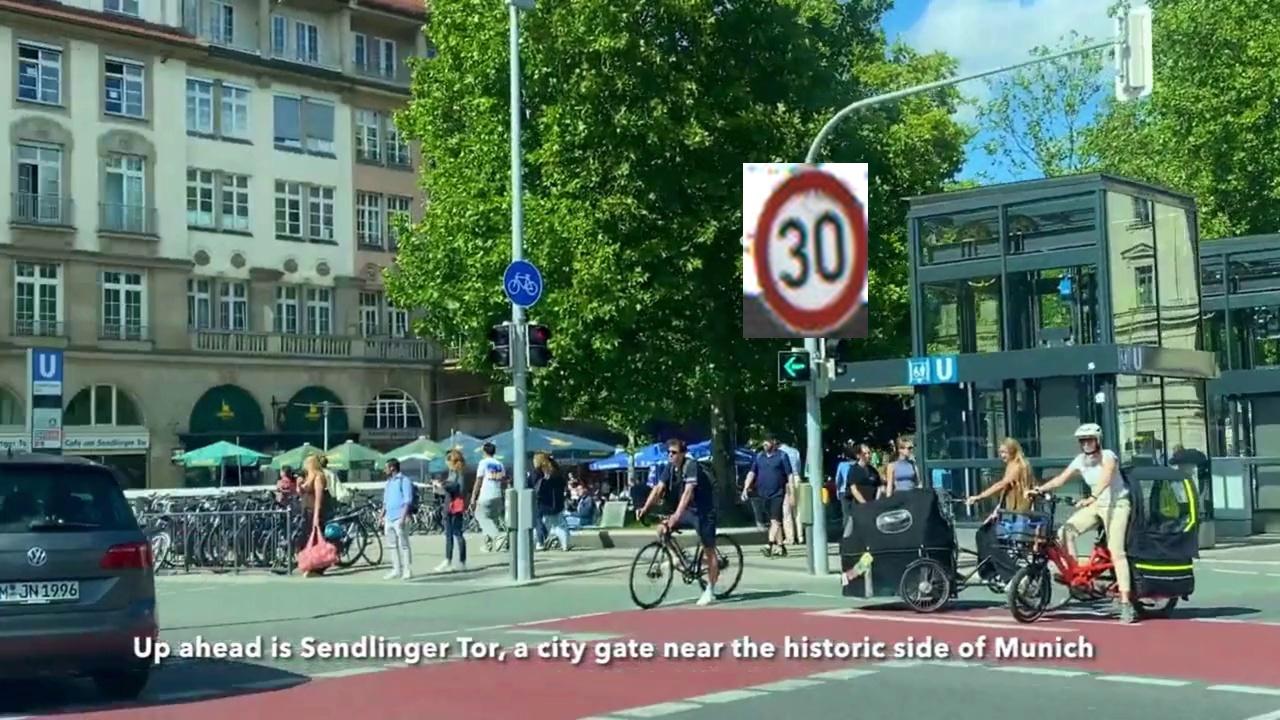Speed 30: (743, 163, 868, 338)
